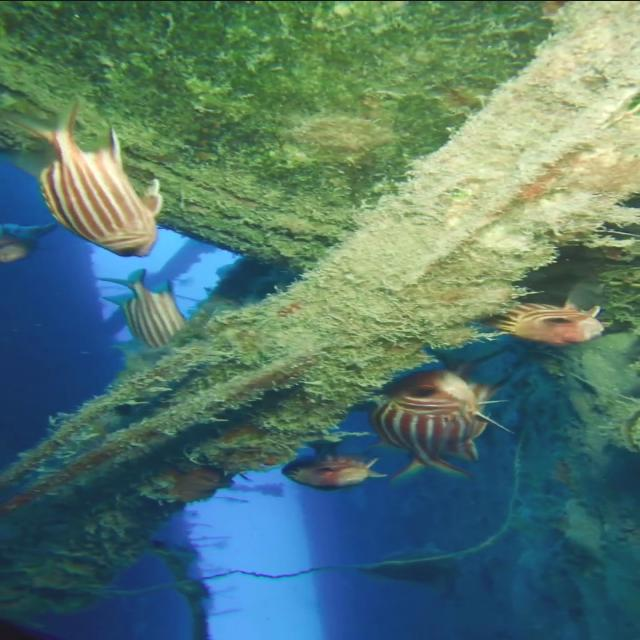Asker Baligi: (8, 98, 166, 258), (367, 366, 517, 480)
